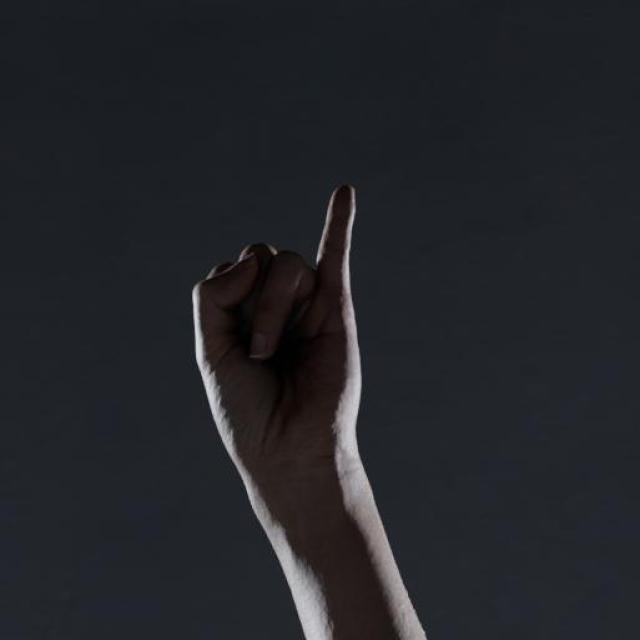I: (188, 182, 367, 448)
